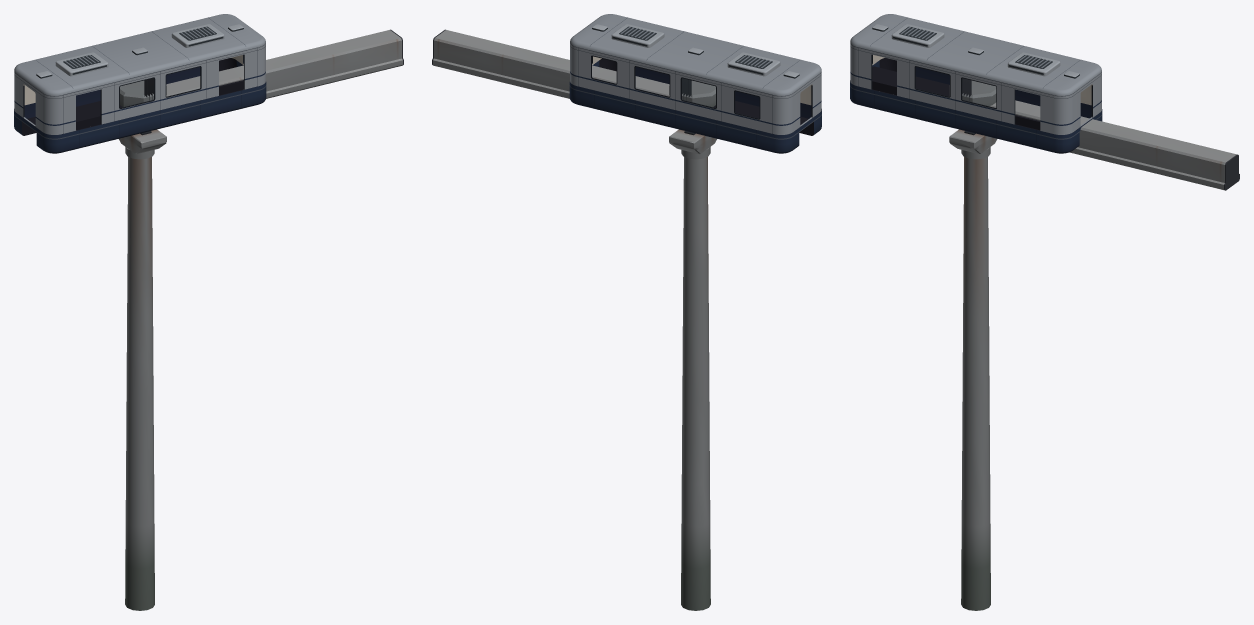
File: monorail.glb
3 renders of one model, left to right at view 1: azimuth 30°, elevation 25°; view 2: azimuth 150°, elevation 25°; view 3: azimuth 330°, elevation 25°, orthographic.
Visible parts, largest first — view 1: car_skin, pillar, car_under, beam, foot; view 2: car_skin, pillar, beam, car_under, foot; view 3: car_skin, pillar, car_under, beam, foot.
Part boxes in pixels (left/top/right/bottom): car_skin: left=14, top=14, right=265, bottom=134; pillar: left=119, top=129, right=166, bottom=610; car_under: left=14, top=58, right=266, bottom=153; beam: left=166, top=29, right=403, bottom=98; foot: left=120, top=80, right=166, bottom=107; car_skin: left=570, top=14, right=821, bottom=134; pillar: left=669, top=129, right=716, bottom=610; beam: left=432, top=29, right=669, bottom=98; car_under: left=569, top=58, right=821, bottom=153; foot: left=669, top=80, right=715, bottom=107; car_skin: left=850, top=14, right=1101, bottom=134; pillar: left=949, top=129, right=997, bottom=610; car_under: left=850, top=58, right=1102, bottom=153; beam: left=990, top=100, right=1239, bottom=190; foot: left=949, top=80, right=996, bottom=106.
Bounding box in the file's own units: 13.61 × 19.73 × 2.62.
